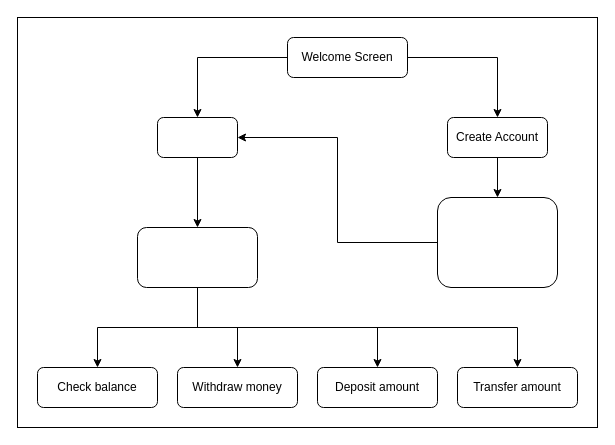
Some shapes in this 615 by 445 pixel diagram are drawn without their labels. The centre of each missing label's shape, as x and y in pixels:
Input: - Email - Password: (x=197, y=257)
Input: - Name - Email - Password - Password Again: (x=497, y=242)
Login: (x=197, y=137)
